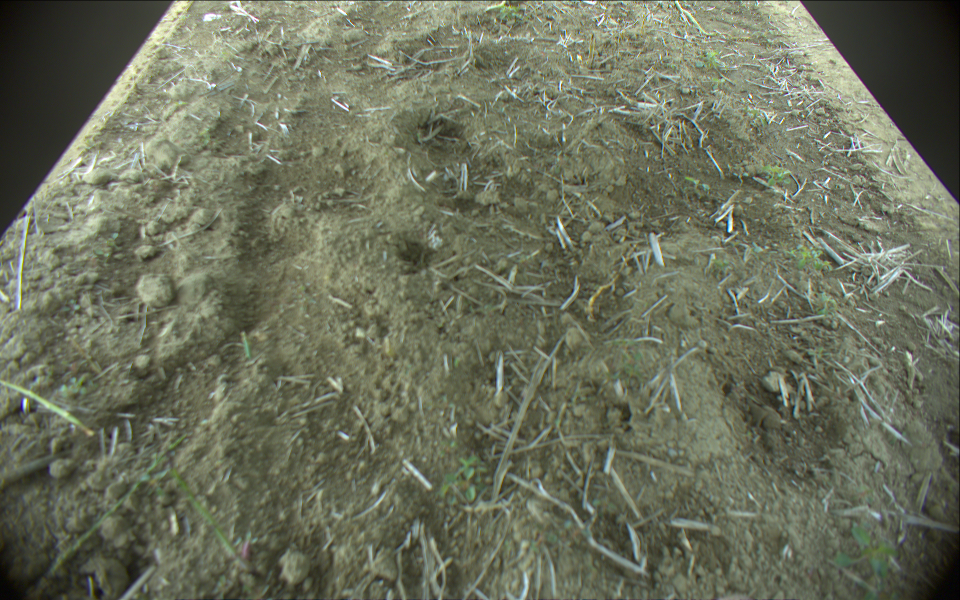aspa: (27, 433, 188, 597), (164, 450, 256, 572), (1, 378, 96, 438), (674, 1, 715, 37)
